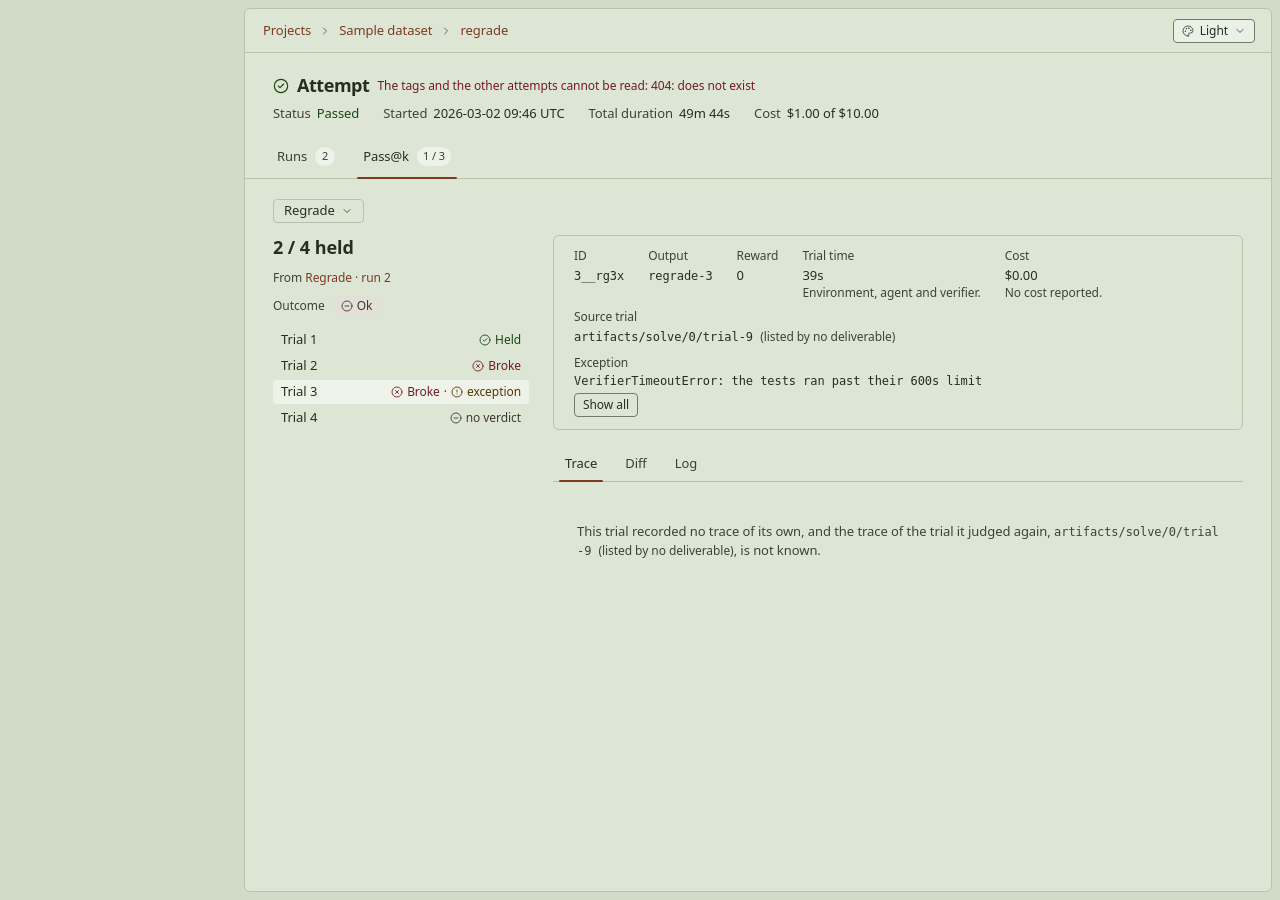
Test: a trial's exception › shows its first line, and the rest under Show all
Expected: the button "Regrade" is shown, [273, 199, 364, 223]
Expected: the text "VerifierTimeoutError: the tests ran past their 600s limit Show all" is shown, [574, 374, 982, 417]
Click the button "Show all". click: (606, 405)
box: [574, 393, 638, 417]
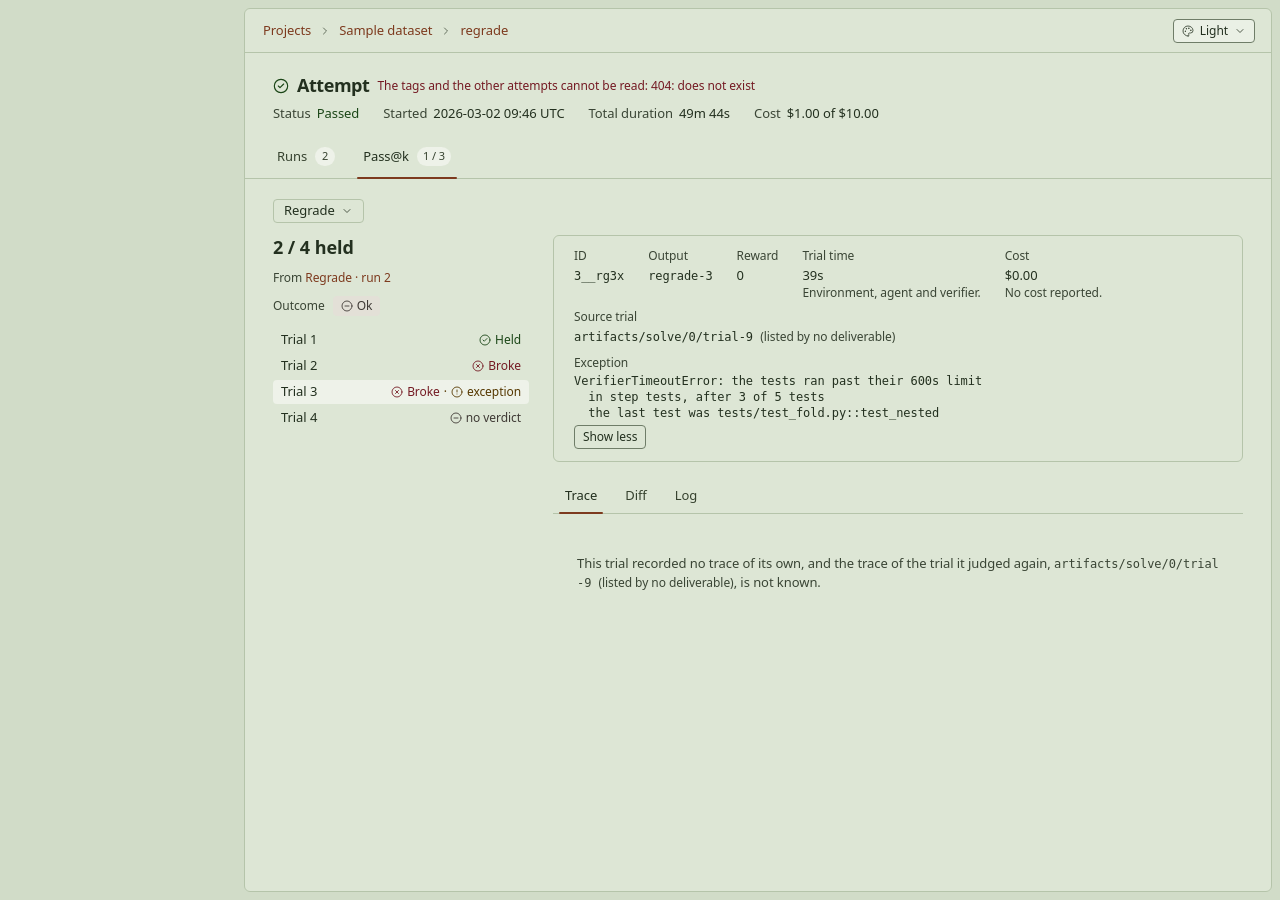
Expected: the button named "Show all" is expanded, [574, 425, 646, 449]
Expected: the button named "Show all" reads "Show less", [574, 425, 646, 449]
